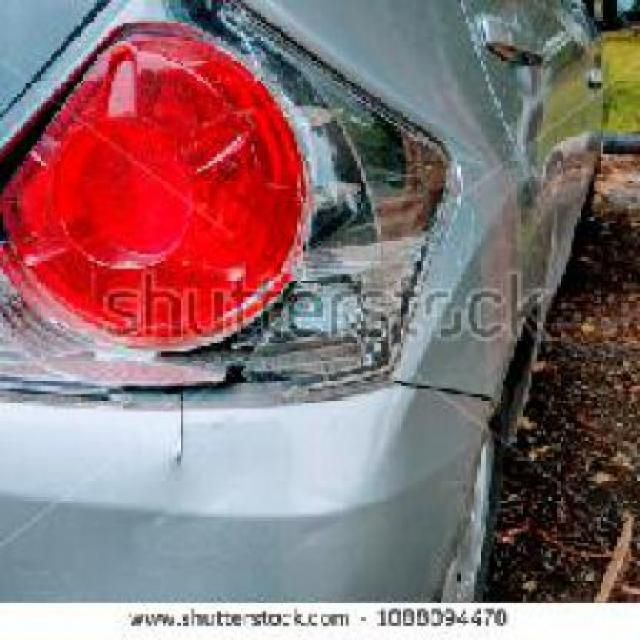damaged-tail-light: (2, 0, 430, 397)
